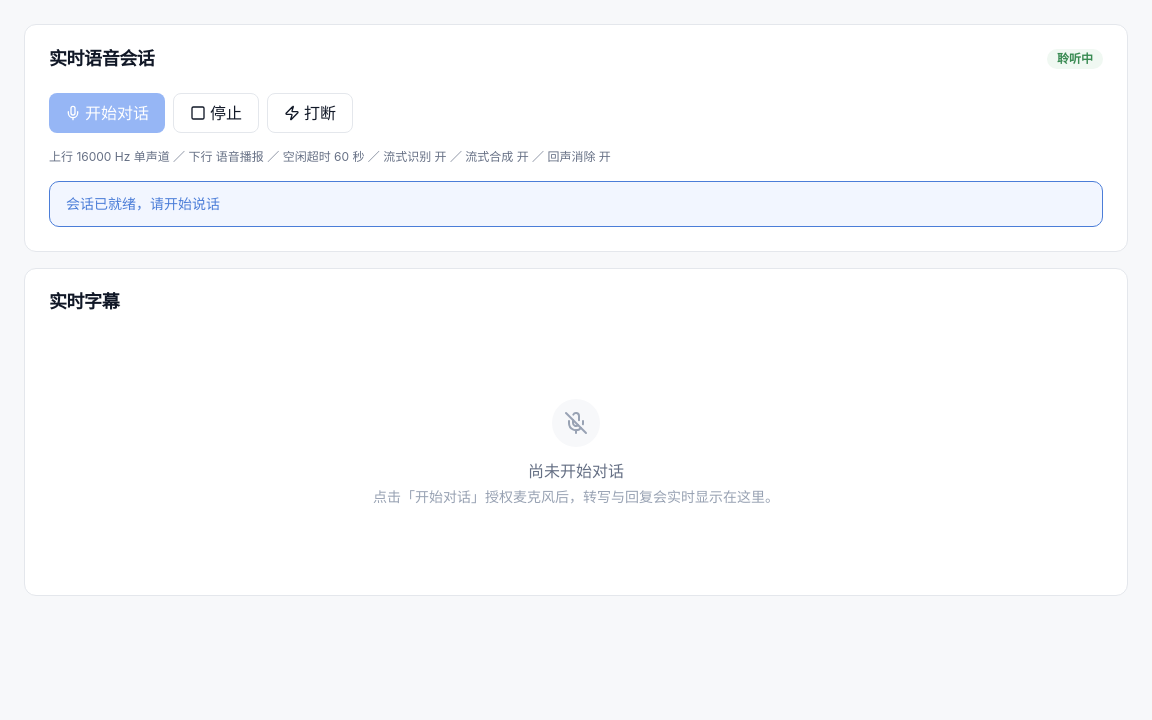
Test: RealtimeVoicePage › closed 与停止按钮：结束态、停采集、结束请求
Earlier steps of the test are not shown.
What coordinates should you click on to do the following:
click the button "停止"
I would click on:
 (216, 113)
Its box is [173, 93, 259, 133].
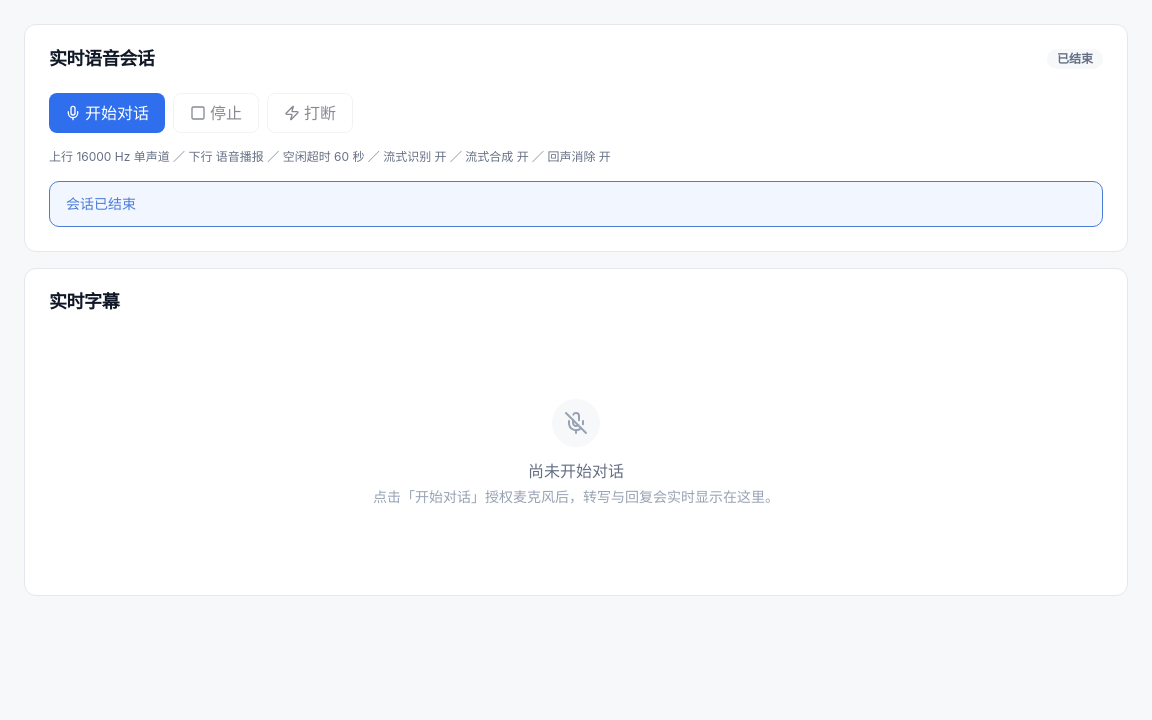
Expected: the text named "会话状态" reads "已结束", [1057, 51, 1093, 66]
Expected: the text "会话已结束" is shown, [66, 195, 136, 212]
